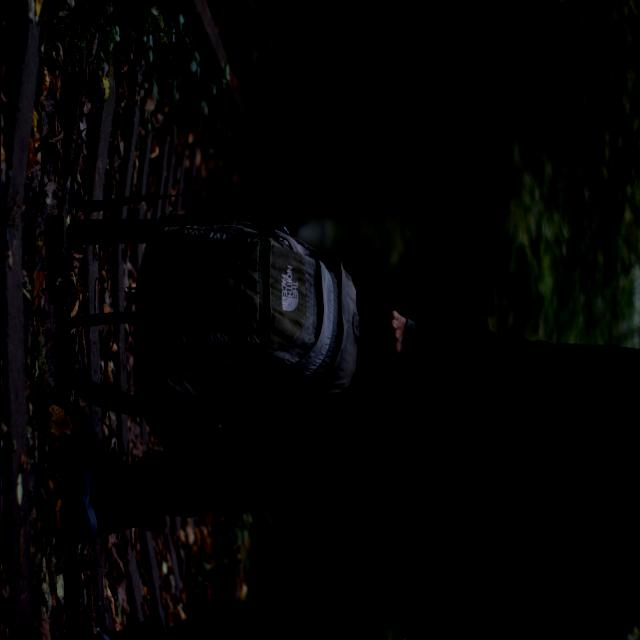backpack: (134, 201, 390, 454)
